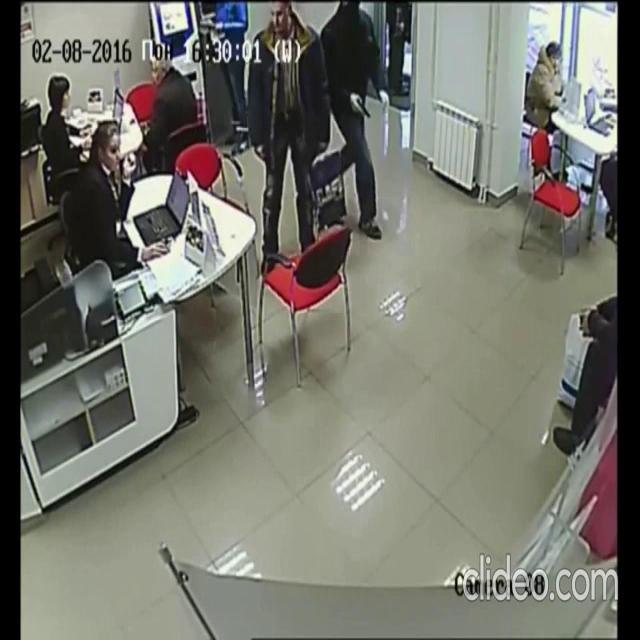gun: (246, 2, 332, 274), (312, 0, 390, 241), (70, 116, 170, 281), (524, 39, 572, 181), (43, 72, 93, 191), (355, 95, 372, 119)
